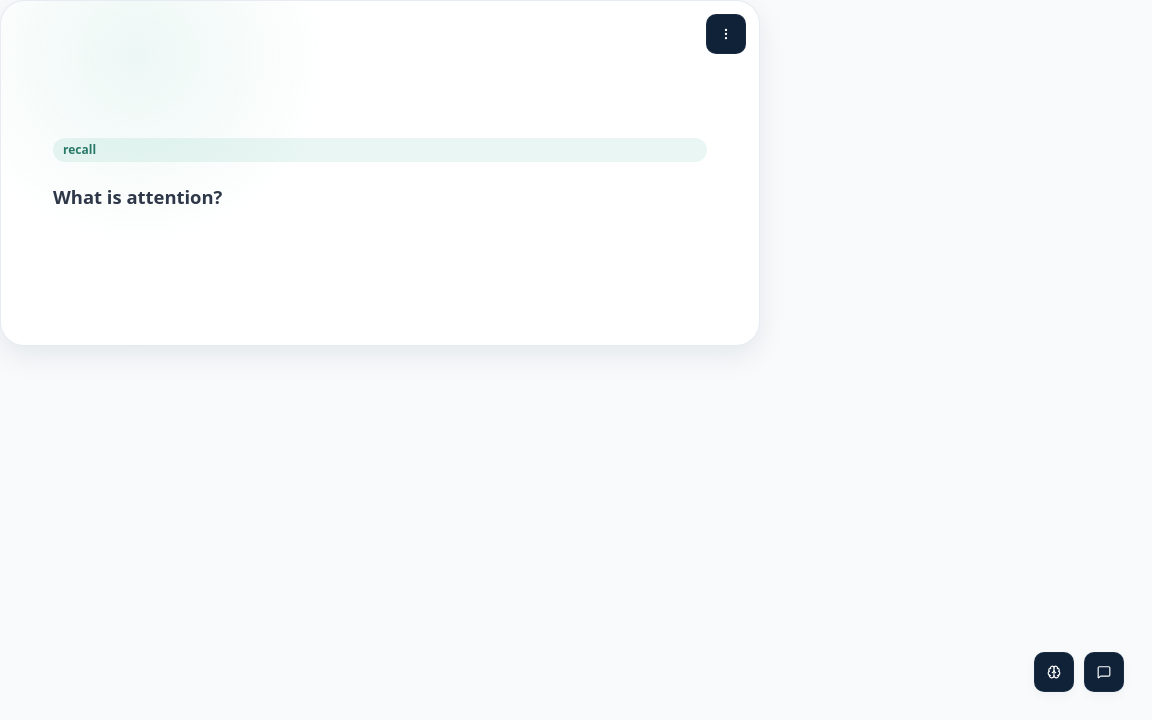
it: ReviewSession › opens the report dialog without submitting immediately
This screenshot has width=1152, height=720.
Press ArrowDown in the button named "menu", box [706,14,746,54]
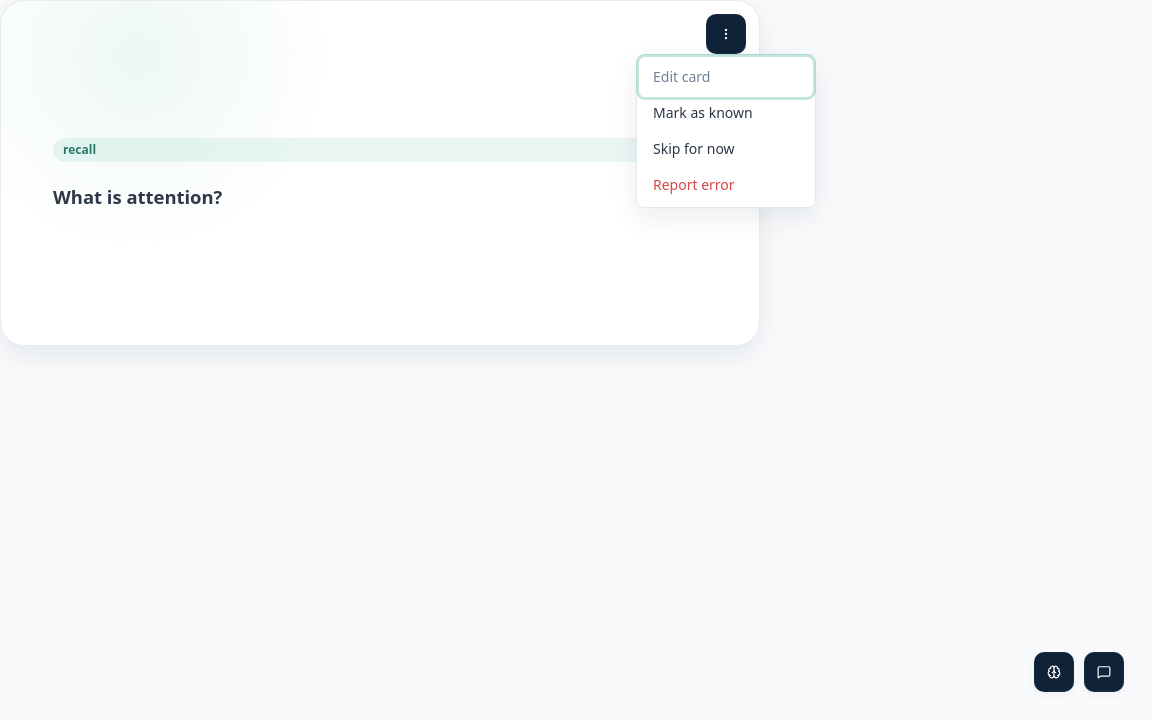
Click the menu item "Report error" at (694, 184), box [653,175,735,194]
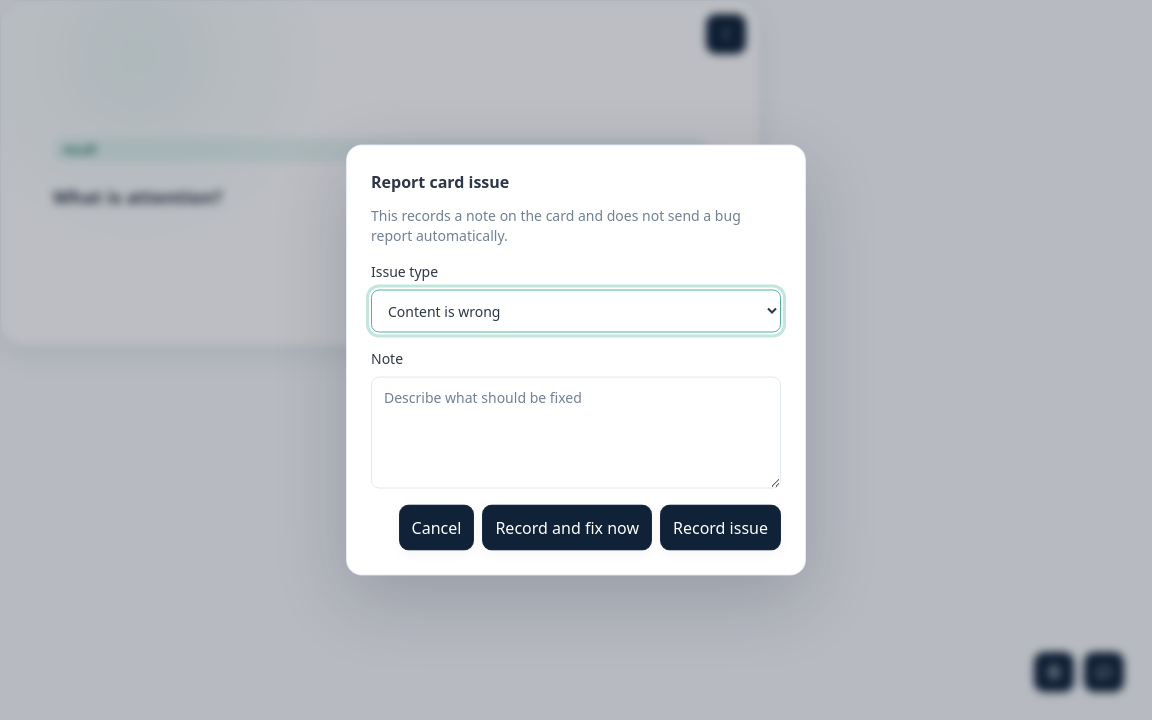
Now the dialog "Report card issue" is shown, box [346,144,806,576]
